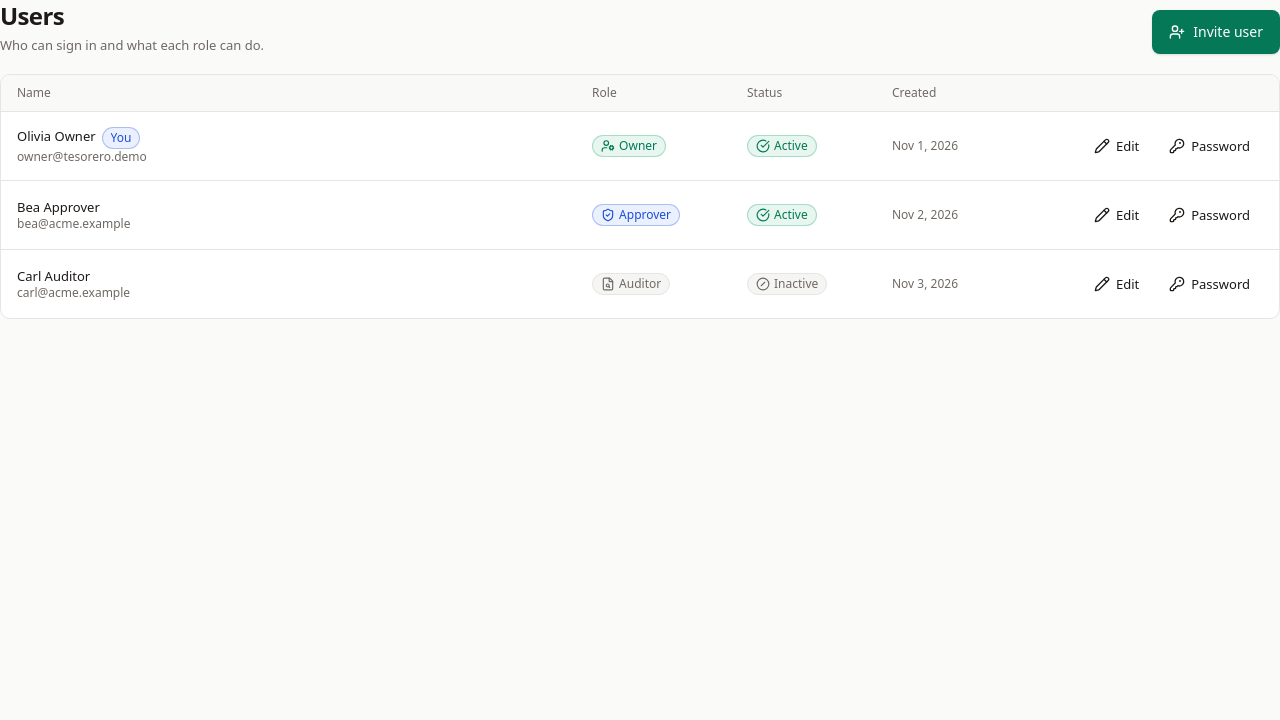
it: users admin › shows the server detail when the email already exists (409)
This screenshot has width=1280, height=720.
Click the button with test id "invite-user-button" at (1216, 32), box [1152,10,1279,54]
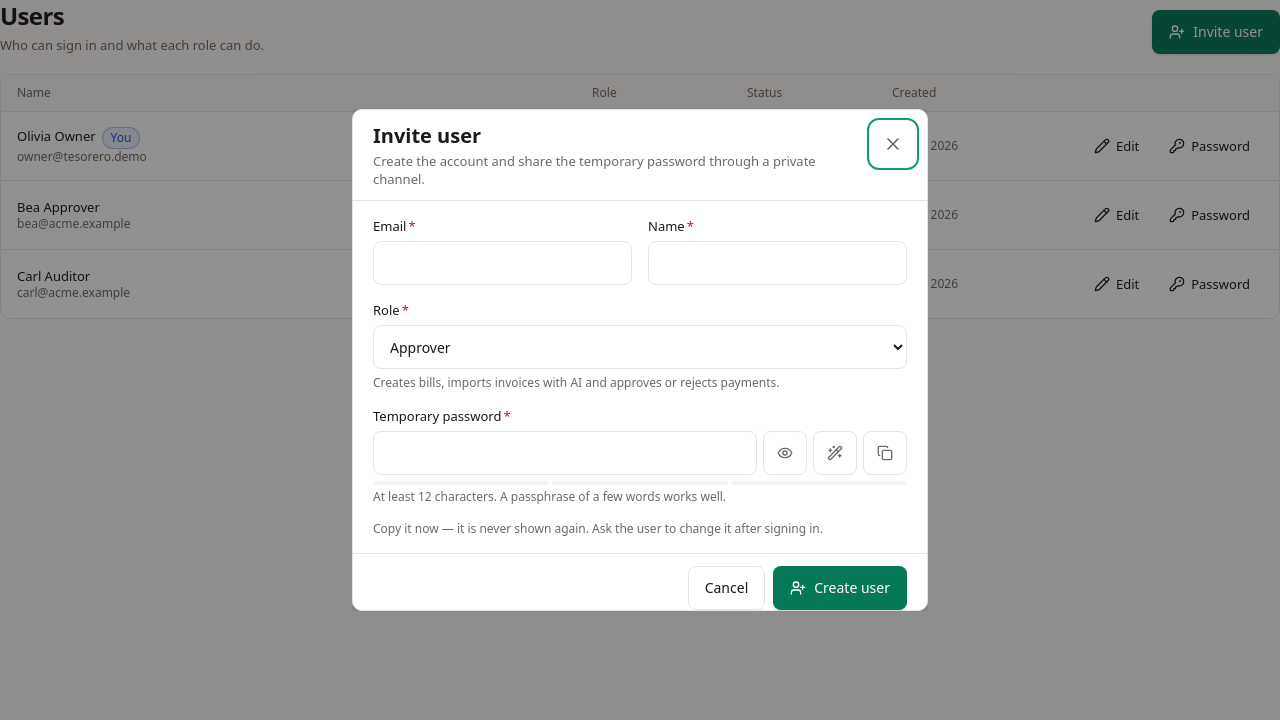
Type "bea@acme.example" into the field with test id "user-email" at (502, 263), box [373,241,632,285]
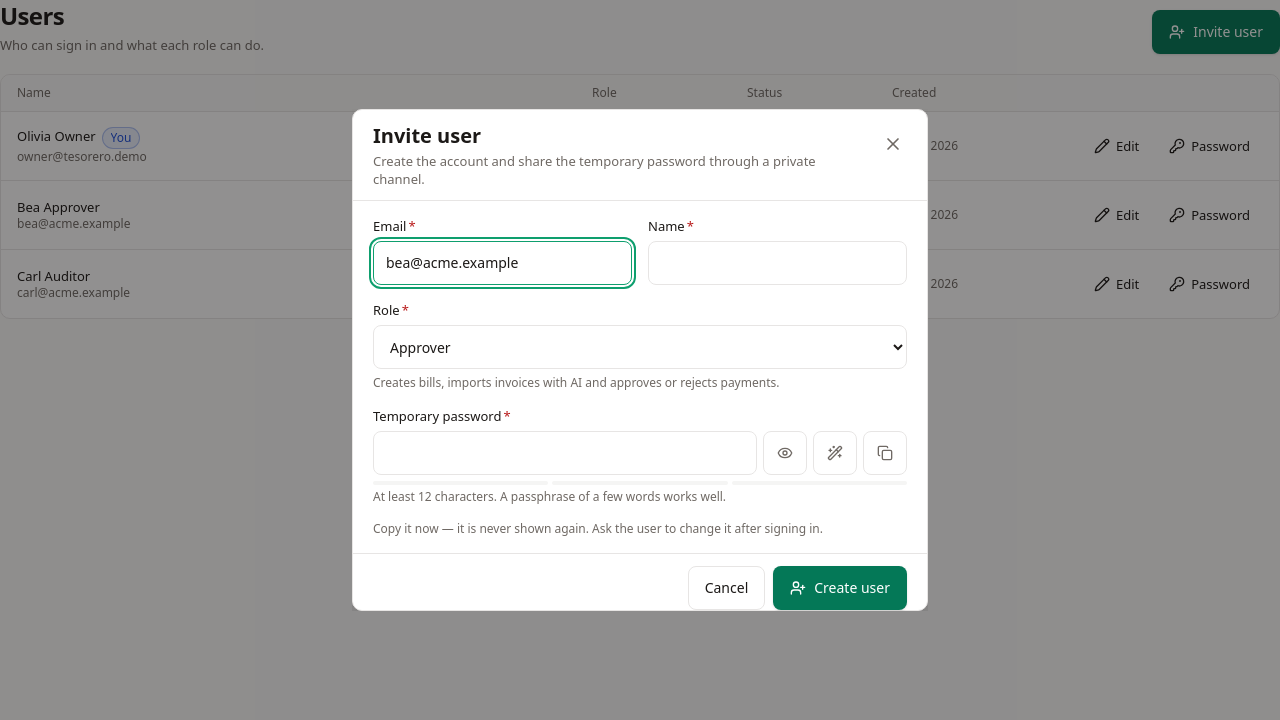
Type "Bea Again" into the field with test id "user-name" at (778, 263), box [648,241,907,285]
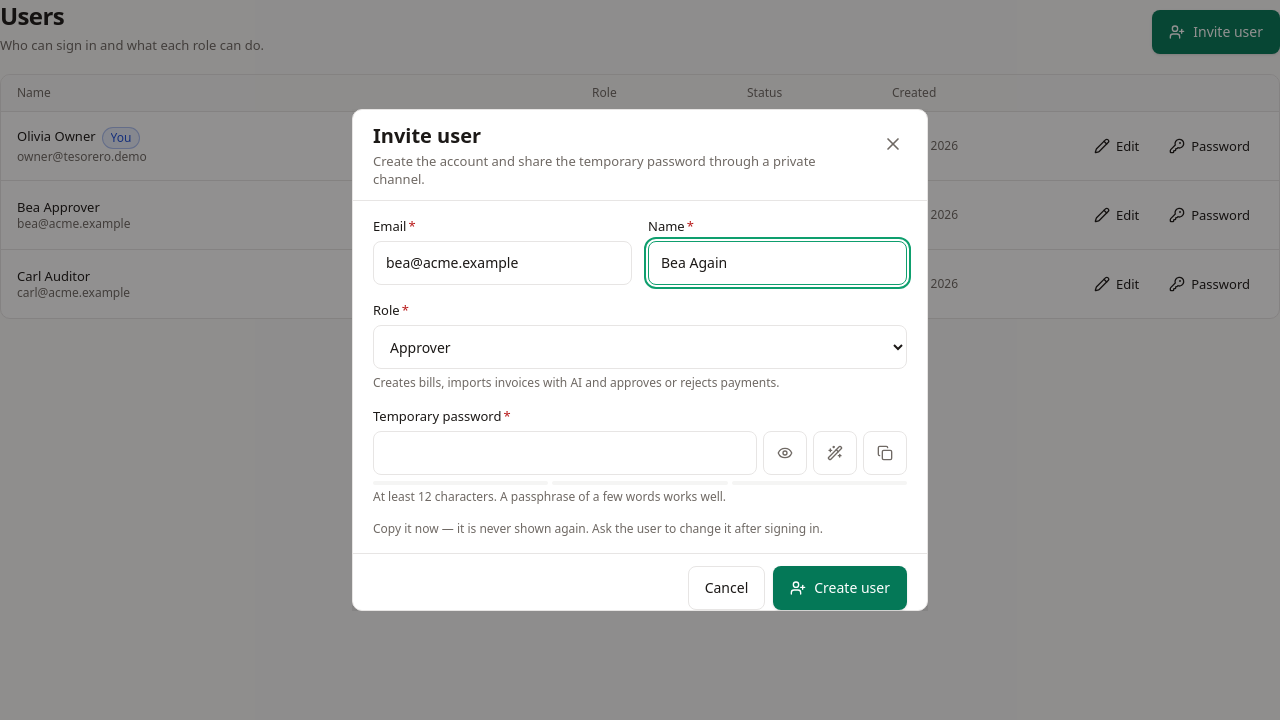
Click the button with test id "user-password-generate" at (835, 453), box [813,431,857,475]
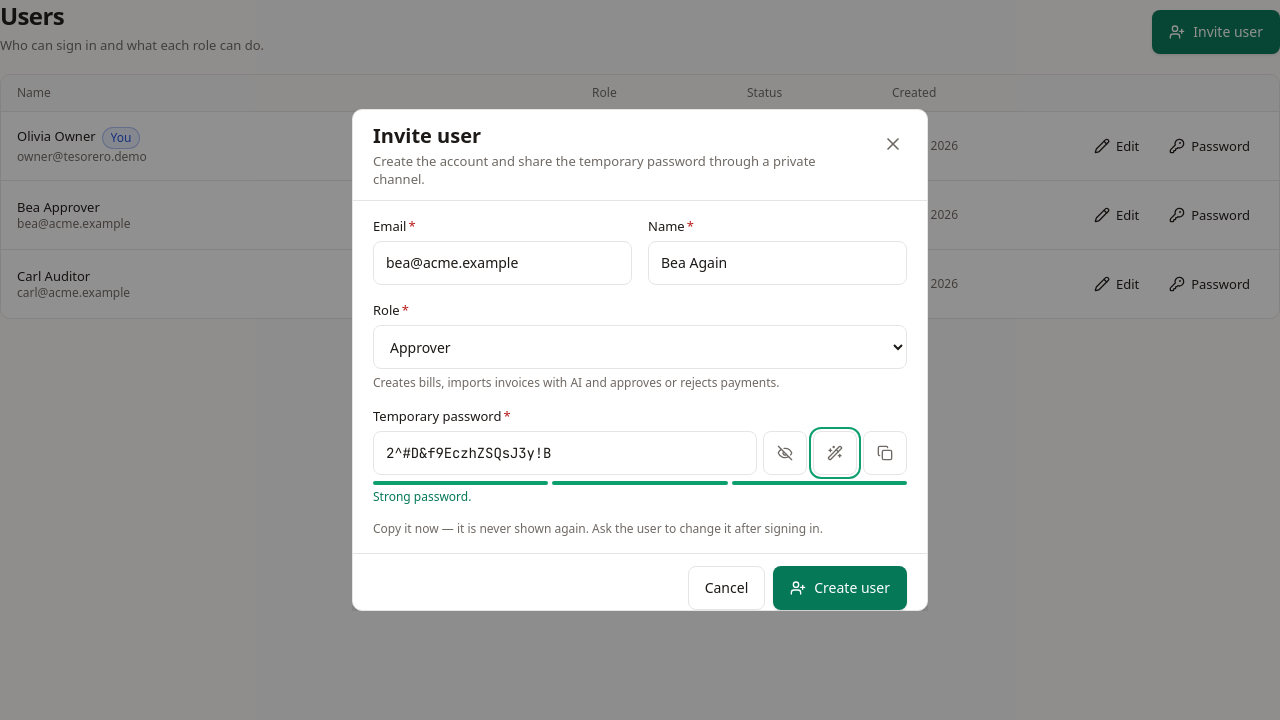
Click the button with test id "user-form-submit" at (840, 588), box [773,566,907,610]
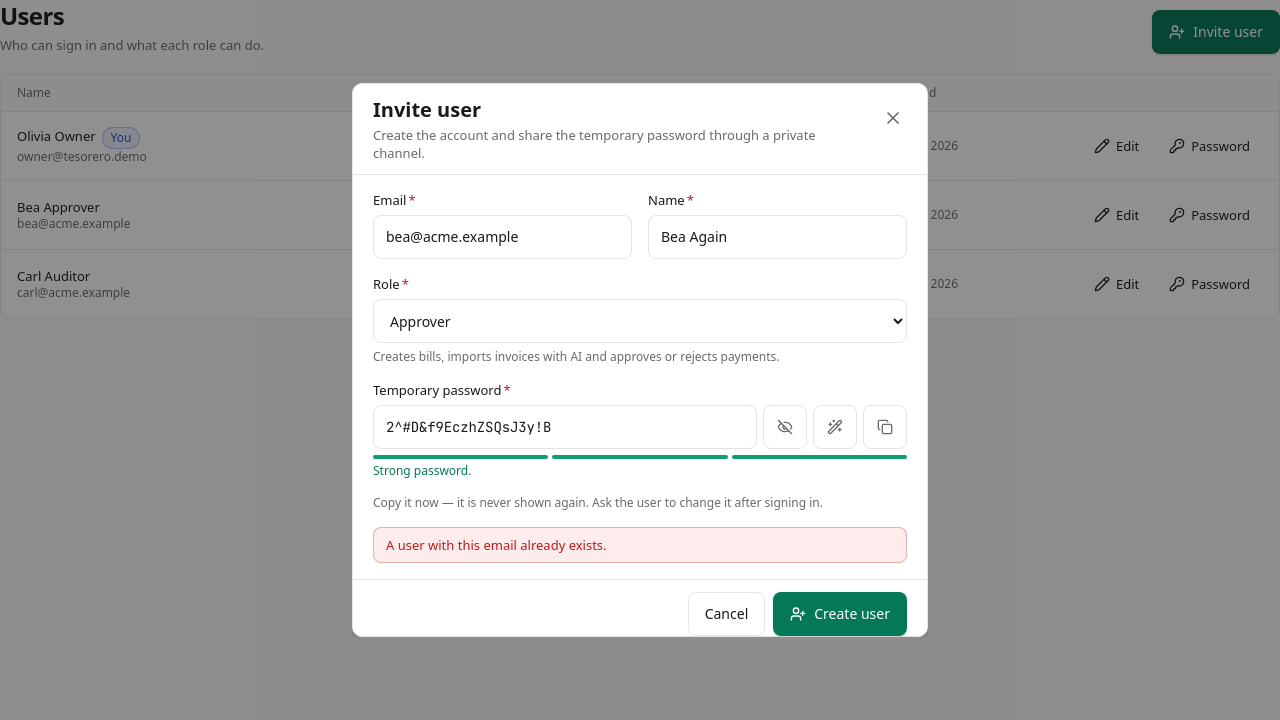
Expected: the message with test id "user-form-error" reads "A user with this email already exists.", [386,536,607,554]
